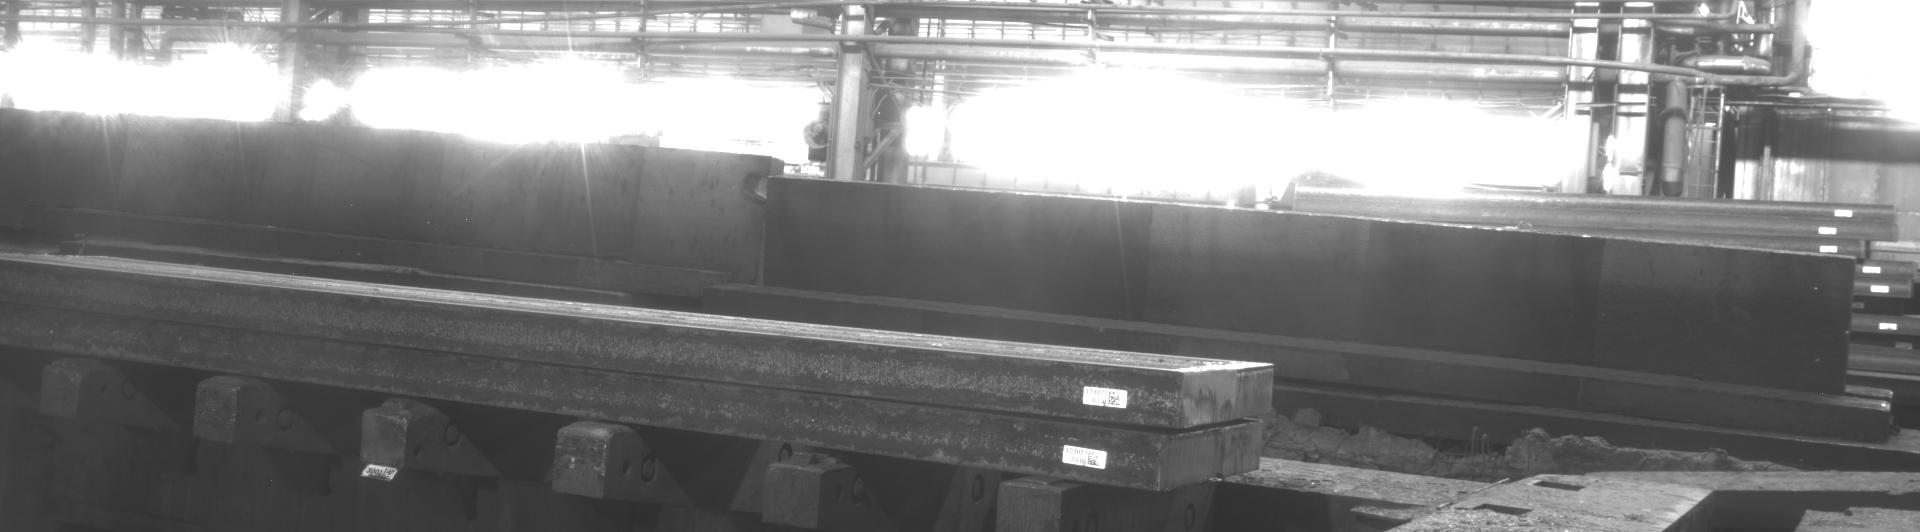data matrix: (1087, 452, 1103, 469), (1109, 391, 1124, 408), (382, 468, 399, 483)
